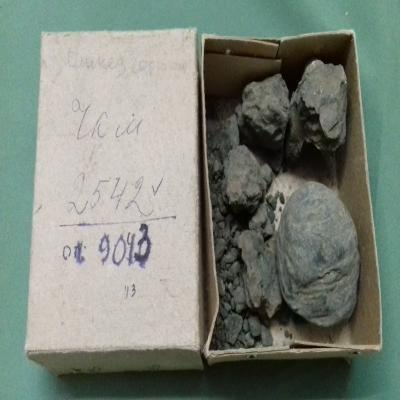mineralogy: (207, 115, 285, 349), (277, 181, 359, 327), (286, 60, 347, 162), (237, 74, 289, 150), (238, 230, 282, 318), (222, 144, 266, 213), (249, 203, 273, 238), (248, 203, 268, 233), (233, 275, 239, 289), (232, 266, 233, 267)
